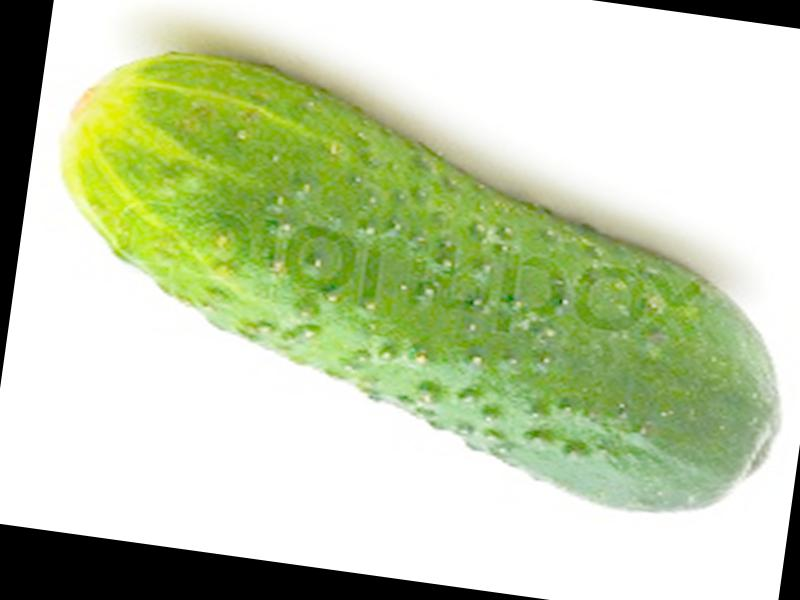Cucumber: (20, 34, 800, 529)
